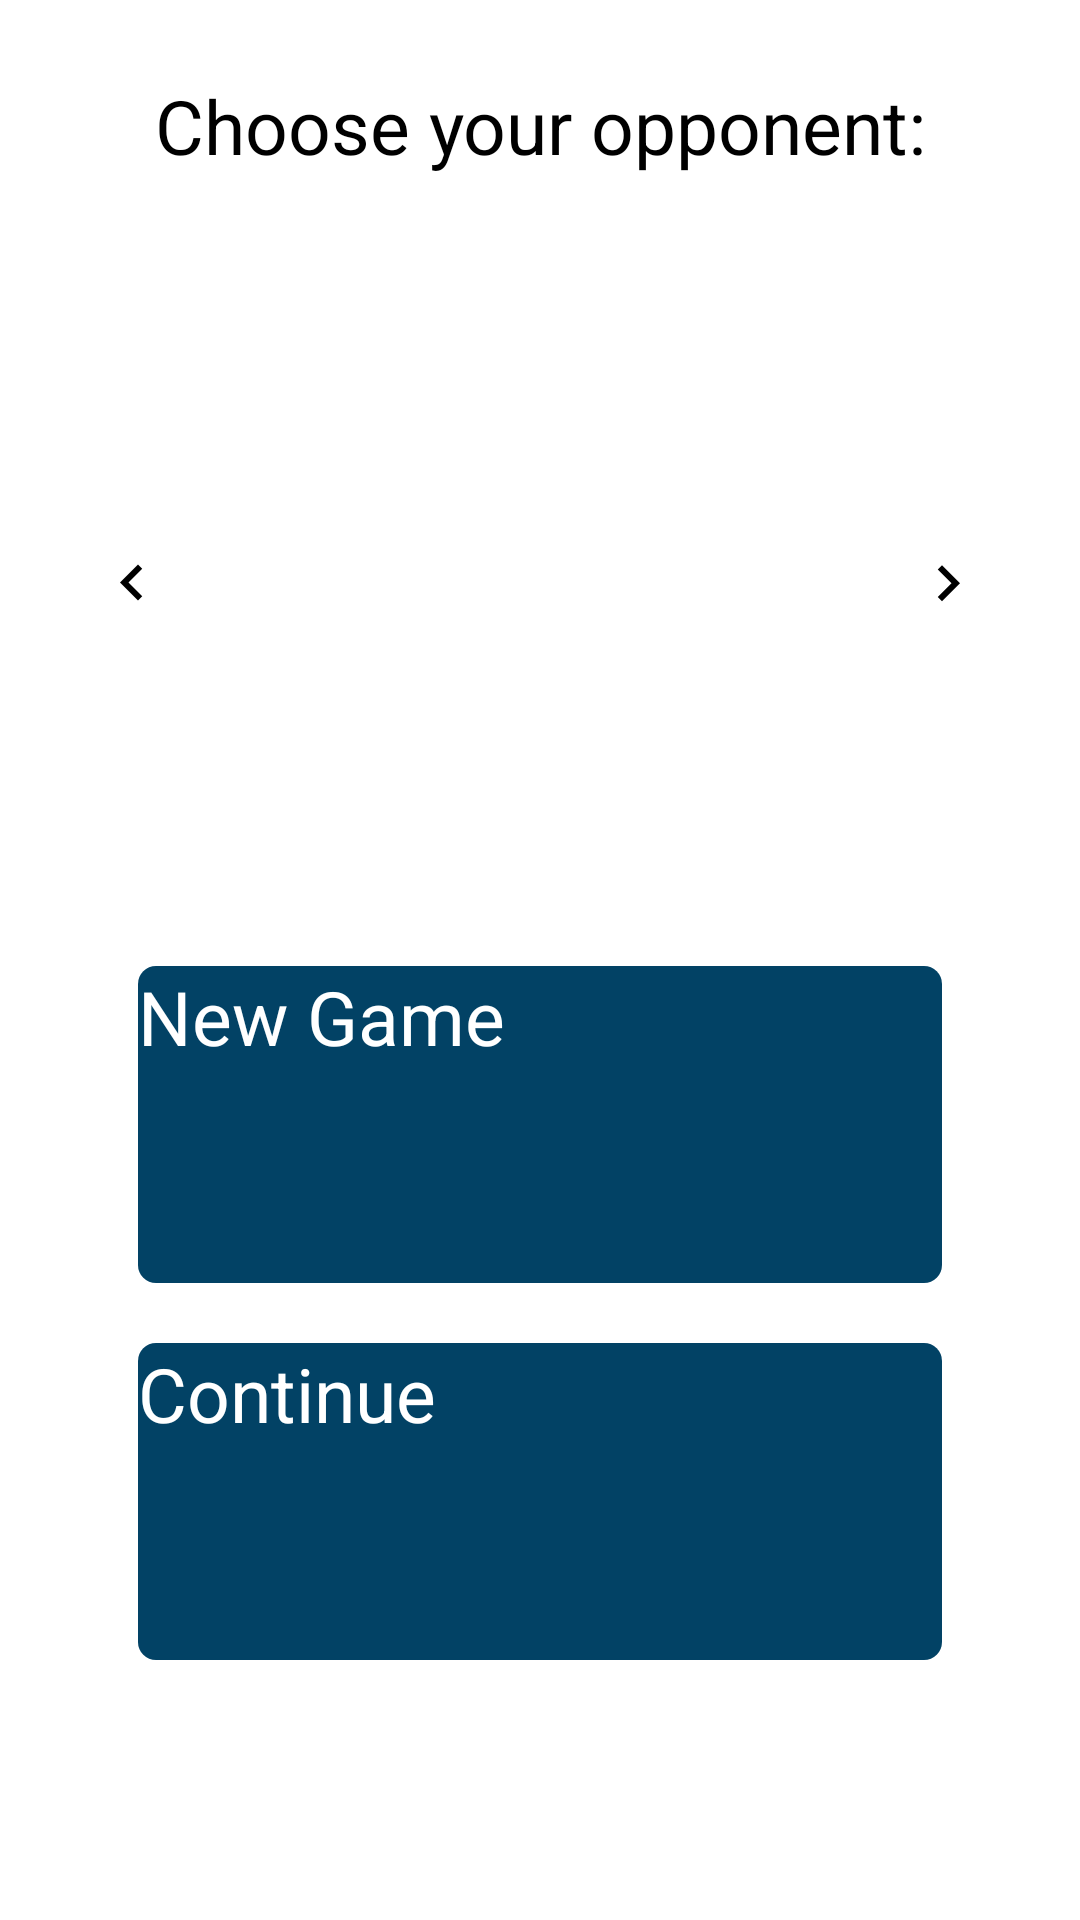

Named icons in this screenshot (1080w x 1920h) and their centers, [x,y]:
keyboard arrow left: [131,582]
keyboard arrow right: [949,583]
